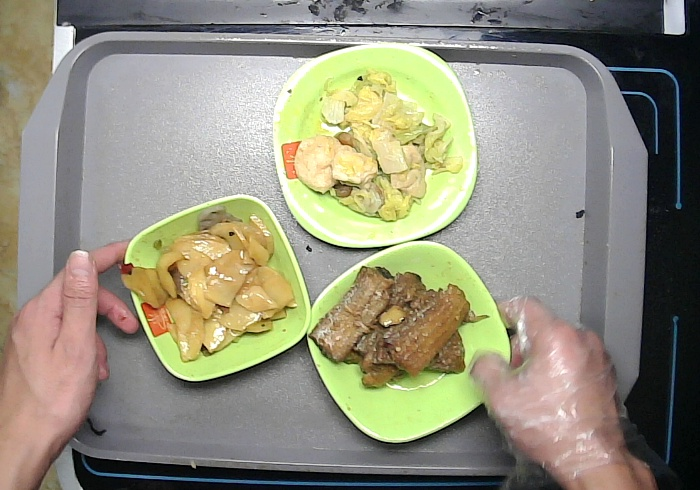SHKJ-Lv_Se_Cai_Die: (304, 239, 515, 442)
SHKJ-Lv_Se_Si_Fang_Cai_Die: (270, 42, 479, 249)
SHKJ-Lv_Se_Xiao_Fang_Die: (122, 192, 311, 381)
